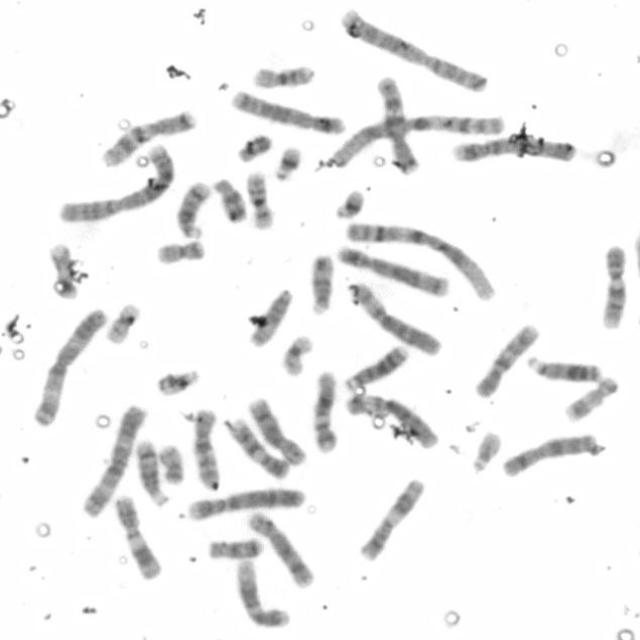A1: (340, 217, 500, 303), (318, 109, 505, 171)
A2: (334, 4, 490, 95), (54, 138, 178, 224)
A3: (27, 303, 108, 428), (78, 398, 150, 519)
B4: (186, 484, 306, 522), (448, 131, 578, 165)
B5: (332, 243, 450, 297), (225, 86, 348, 136)
C10: (469, 318, 542, 400), (186, 404, 221, 491)
C11: (355, 474, 427, 564), (110, 491, 164, 581)
C12: (232, 556, 292, 629), (307, 366, 340, 454)
C6: (346, 277, 444, 358), (342, 388, 439, 452)
C7: (96, 105, 198, 168), (373, 72, 421, 176)
C8: (244, 507, 317, 590), (244, 392, 309, 467)
C9: (220, 413, 291, 480), (597, 241, 629, 330)
D13: (340, 340, 409, 393), (524, 351, 604, 385)
D14: (131, 436, 170, 508), (172, 177, 212, 239)
D15: (245, 284, 295, 348), (306, 249, 336, 317)
E16: (244, 168, 277, 230), (249, 61, 316, 90)
E17: (560, 372, 620, 424), (42, 237, 80, 299)
E18: (210, 173, 249, 224), (204, 534, 264, 561)
F19: (101, 298, 142, 345), (276, 329, 315, 378)
F20: (152, 236, 208, 266), (153, 439, 187, 485)
G21: (329, 183, 368, 220), (269, 141, 304, 182)
G22: (468, 428, 502, 476), (153, 367, 200, 400)
X: (498, 430, 601, 480)
Y: (233, 128, 274, 164)
